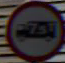Heavy Vehicles: (3, 1, 60, 59)
